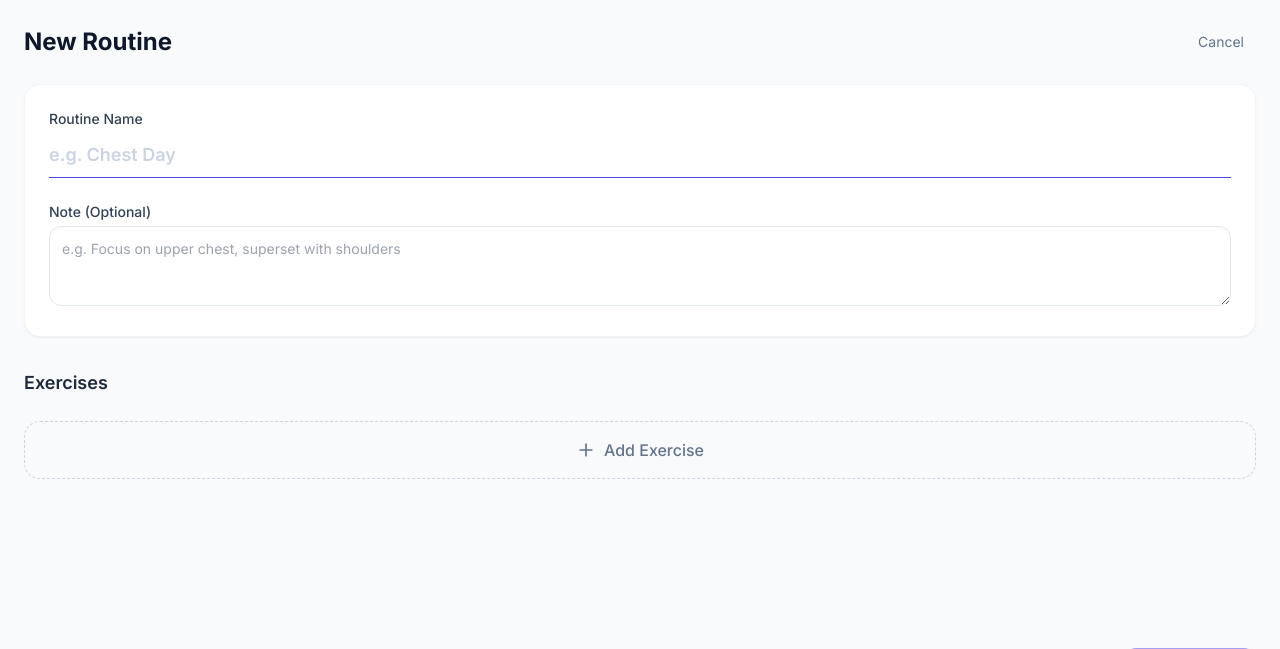
WorkoutEditor › TC-WORKOUT-008: Add Exercise to Workout › should add exercise when Add Exercise is clicked
Step 1. Click the button "Add Exercise" → point(640, 450), box [24,421,1256,479]
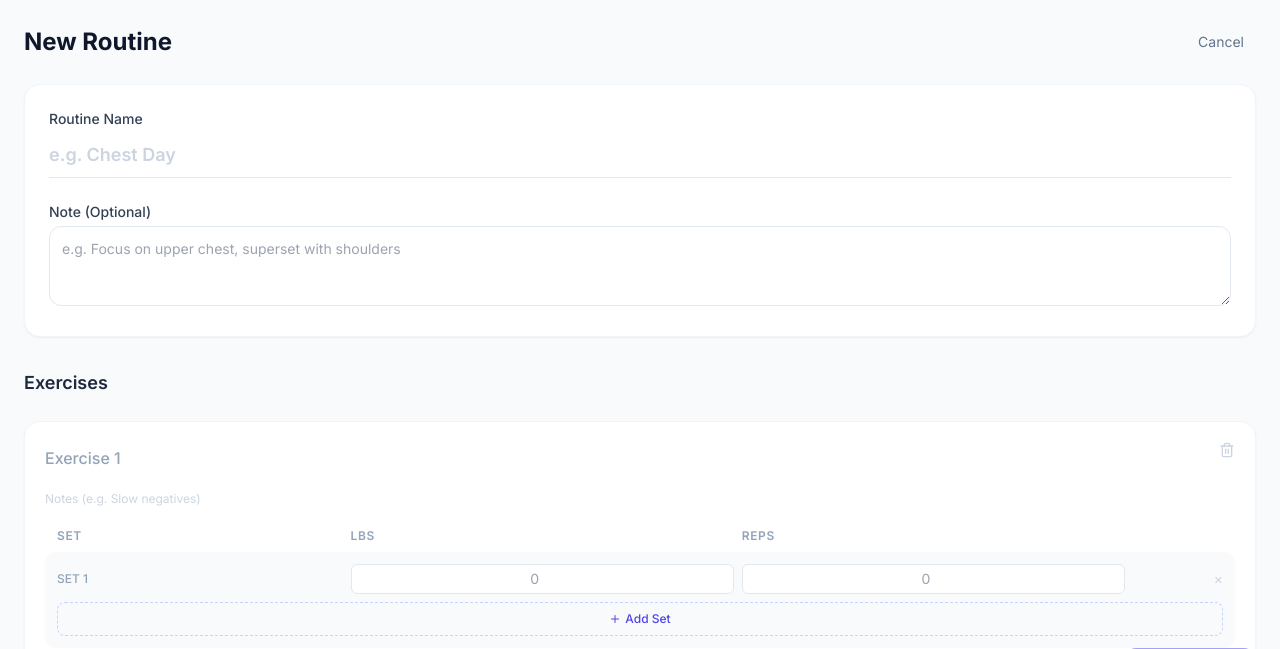
expect the field with placeholder "Exercise 1" is shown: met, box [45,442,1203,475]
